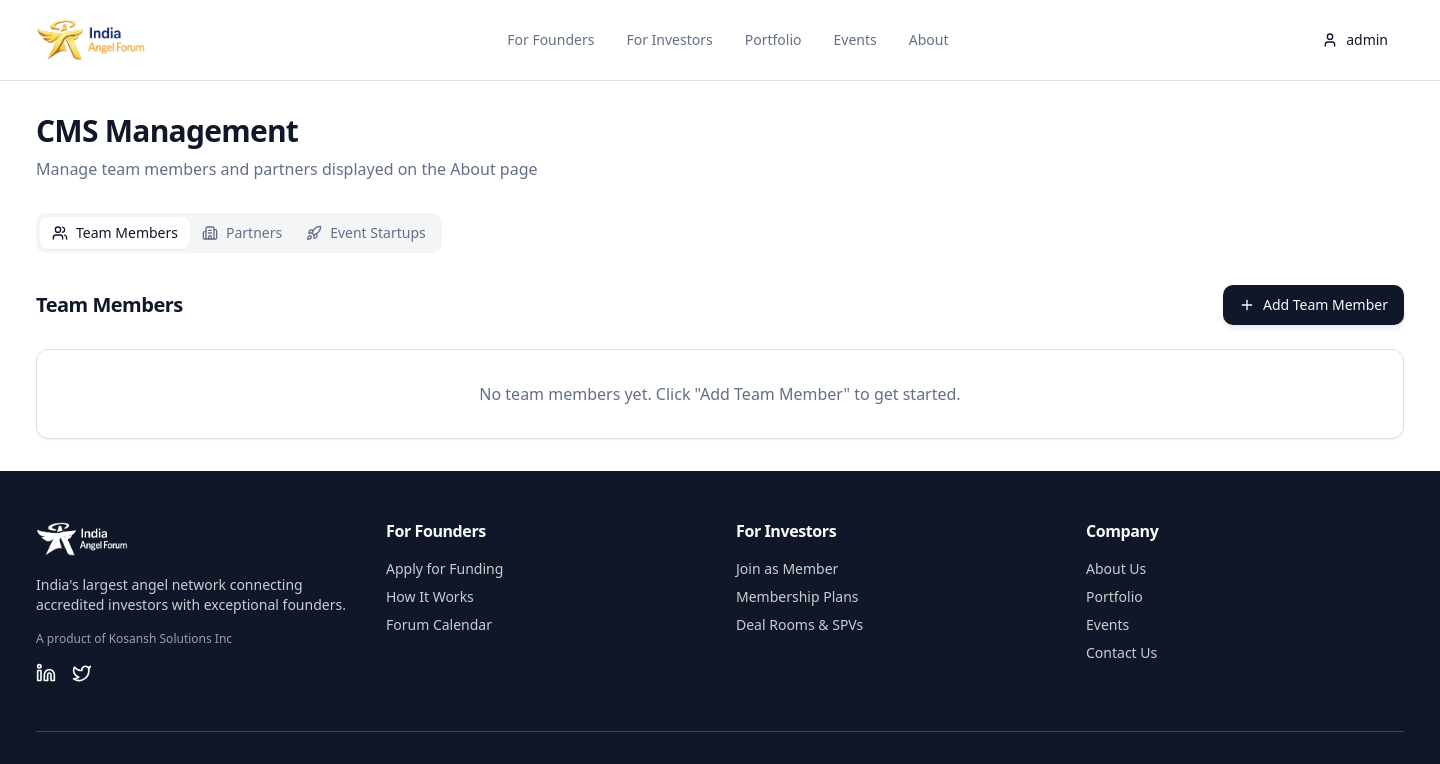
Scenario: US-ADMIN-CRUD-003: CMS Event Startups Tab › Event Selection › should load startups when an event is selected
The image size is (1440, 764).
What coordinates should you click on to do the following:
click the tab "Event Startups"
I would click on:
 (366, 233)
Its box is [294, 217, 438, 249].
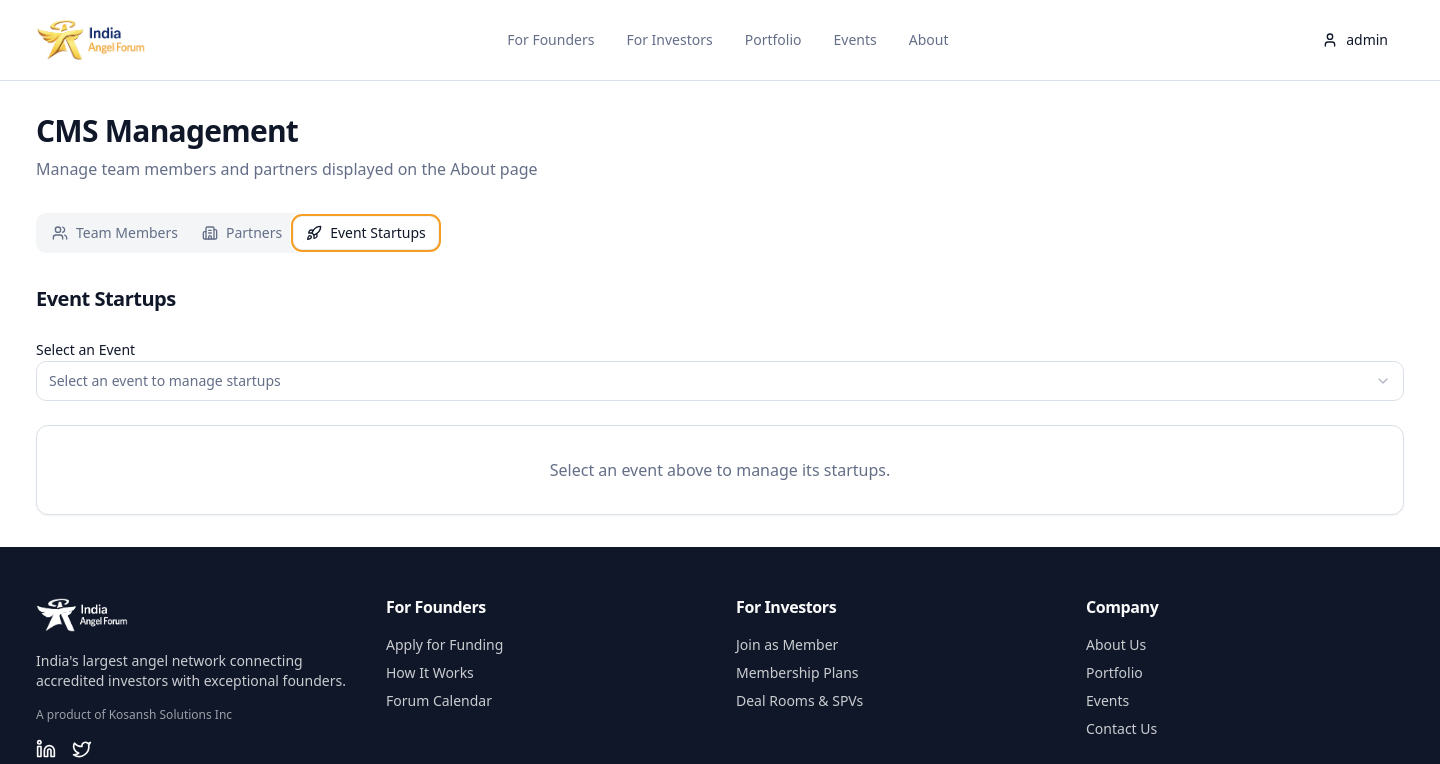
# Select event
What coordinates should you click on to do the following:
click the dropdown
I would click on:
 (165, 380)
Its box is [36, 361, 1404, 401].
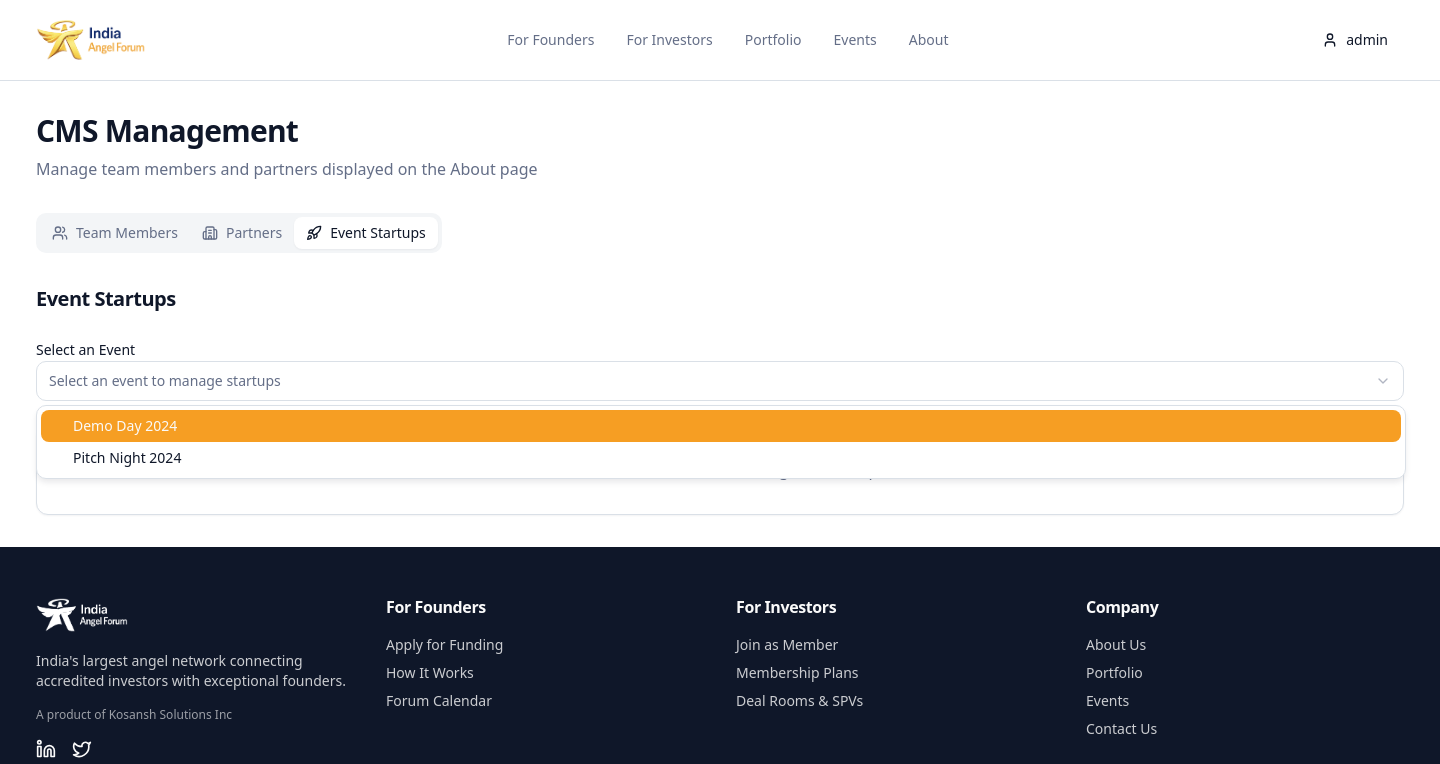
What coordinates should you click on to do the following:
click the option "Demo Day 2024"
I would click on:
 (125, 426)
Its box is [41, 410, 1401, 442].
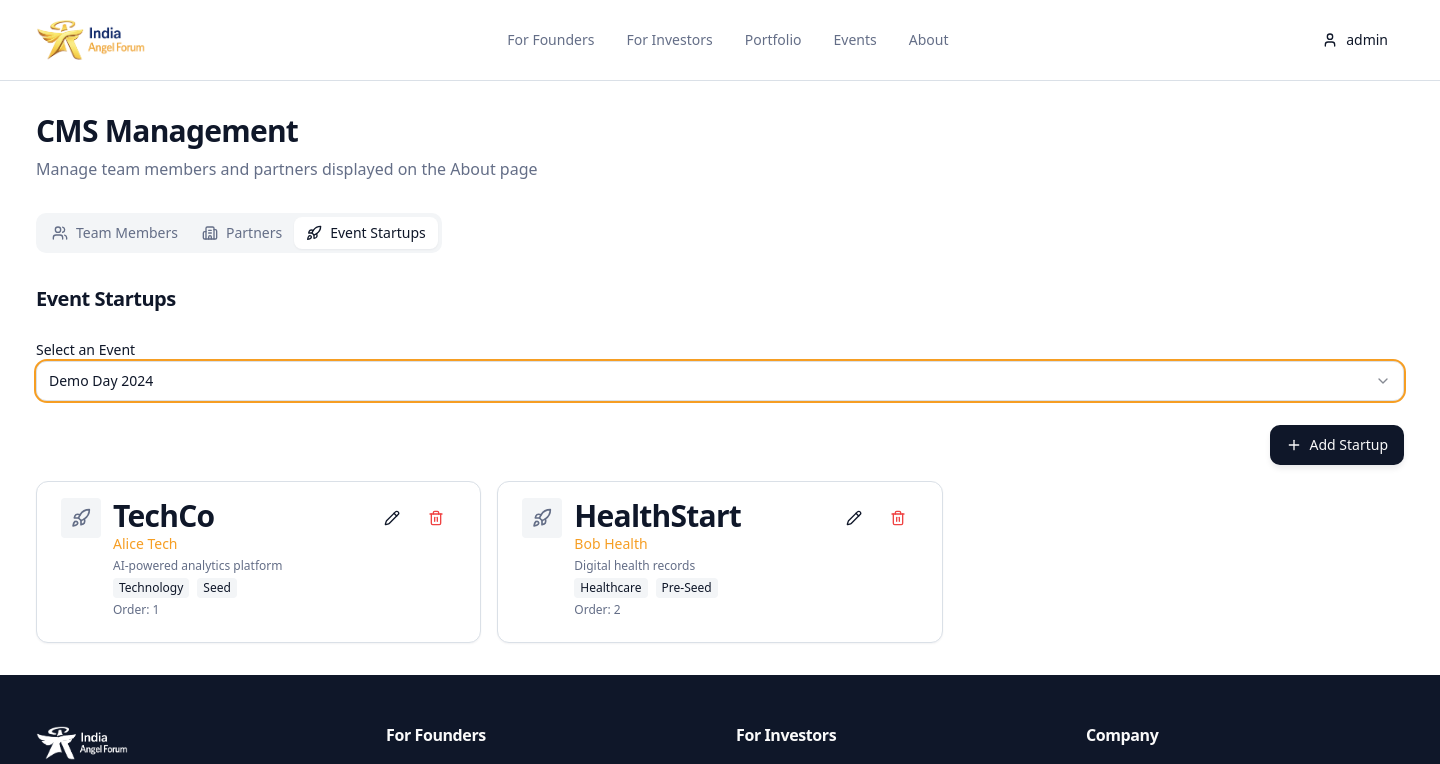
Now the heading "TechCo" is shown, box [113, 495, 214, 536]
Now the heading "HealthStart" is shown, box [574, 495, 741, 536]
